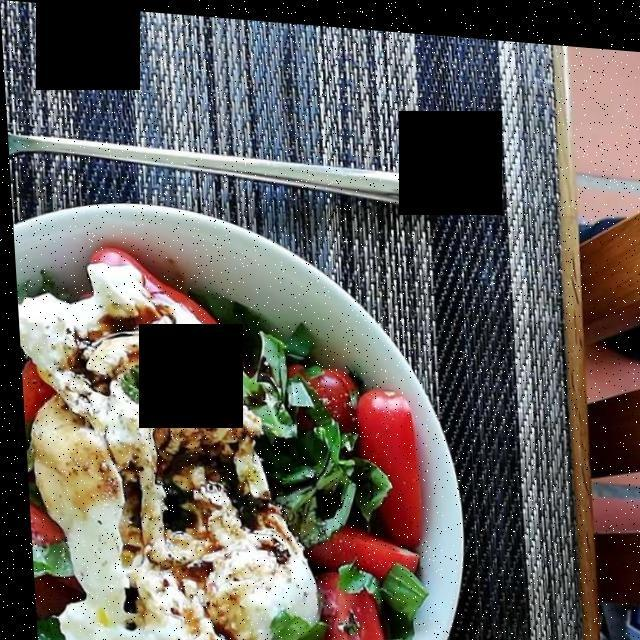salad: (61, 303, 273, 622), (225, 325, 413, 599)
tomato: (282, 368, 432, 628)
